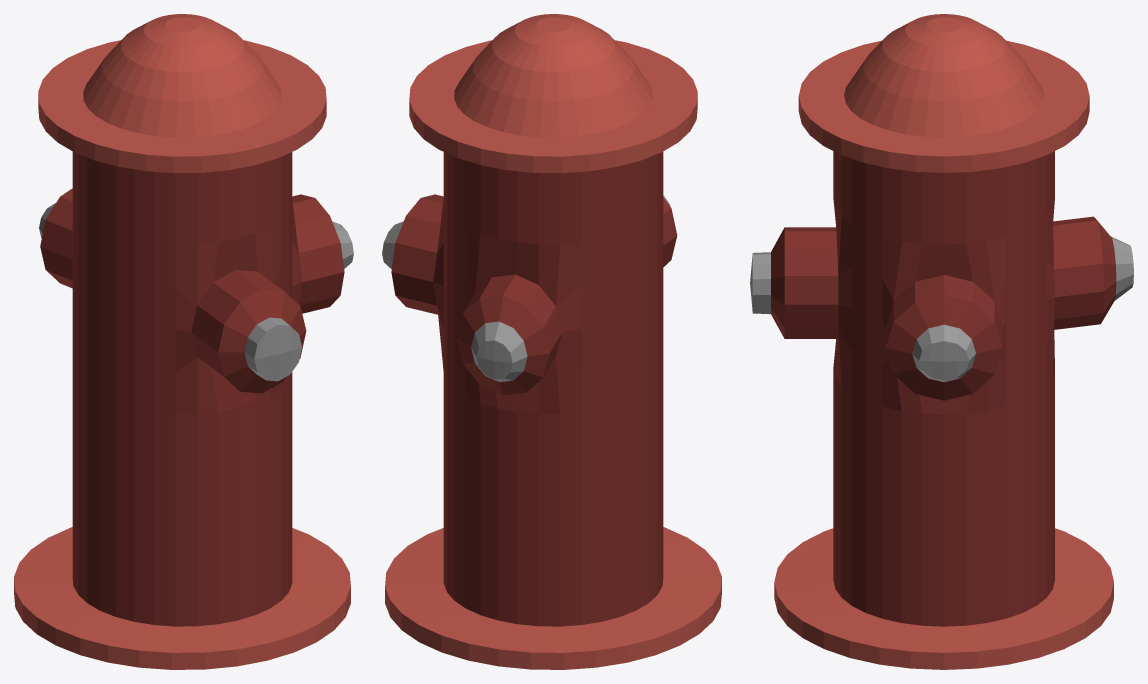
File: fireHydrant_Col.fbx
3 views of the same model, side by side, from view 1: azimuth 30°, elevation 25°; view 2: azimuth 150°, elevation 25°; view 3: azimuth 270°, elevation 25° (orthographic).
Parts seen in each view (by area): view 1: Fire_Hydrant; view 2: Fire_Hydrant; view 3: Fire_Hydrant.
Boxes of the visible parts, x1,y1,x2,y2 form: Fire_Hydrant: (14,14,353,669); Fire_Hydrant: (382,14,721,669); Fire_Hydrant: (750,14,1133,669).
Size of the model in its own units: 33.62 by 60.14 by 36.45.
